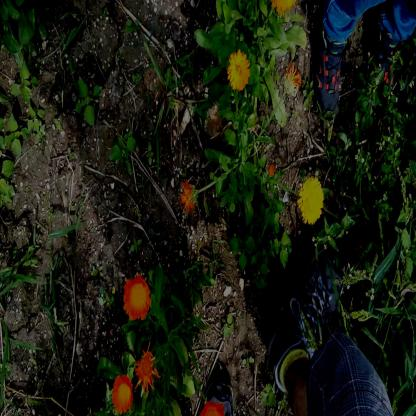marigold: (124, 276, 150, 320), (300, 177, 324, 224), (228, 51, 249, 90), (136, 351, 158, 387), (113, 374, 134, 411)
